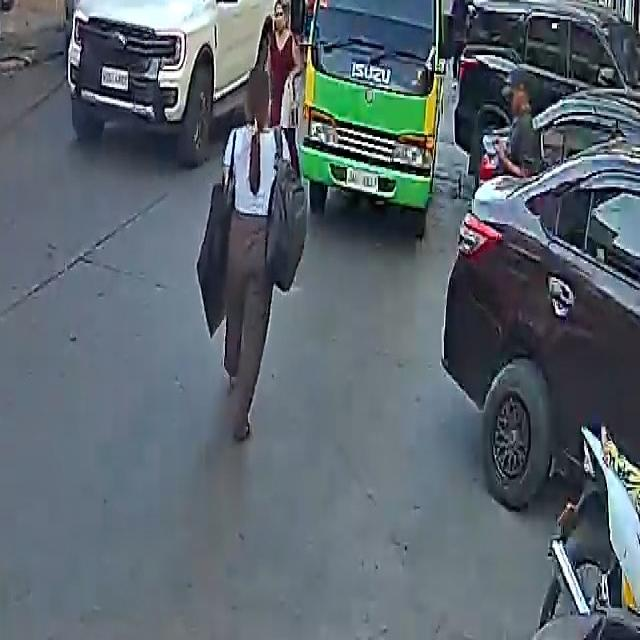car: (443, 131, 640, 538), (68, 0, 281, 160), (460, 0, 640, 149)
